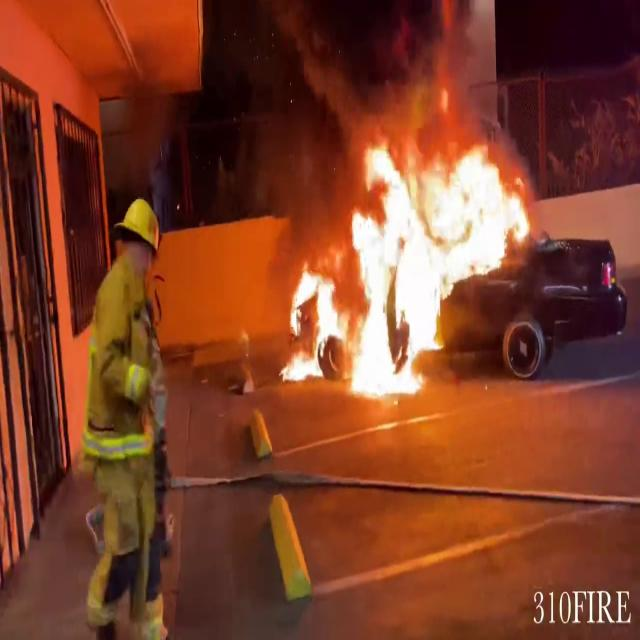Fire: (271, 102, 542, 398)
Smoke: (300, 0, 480, 133)
